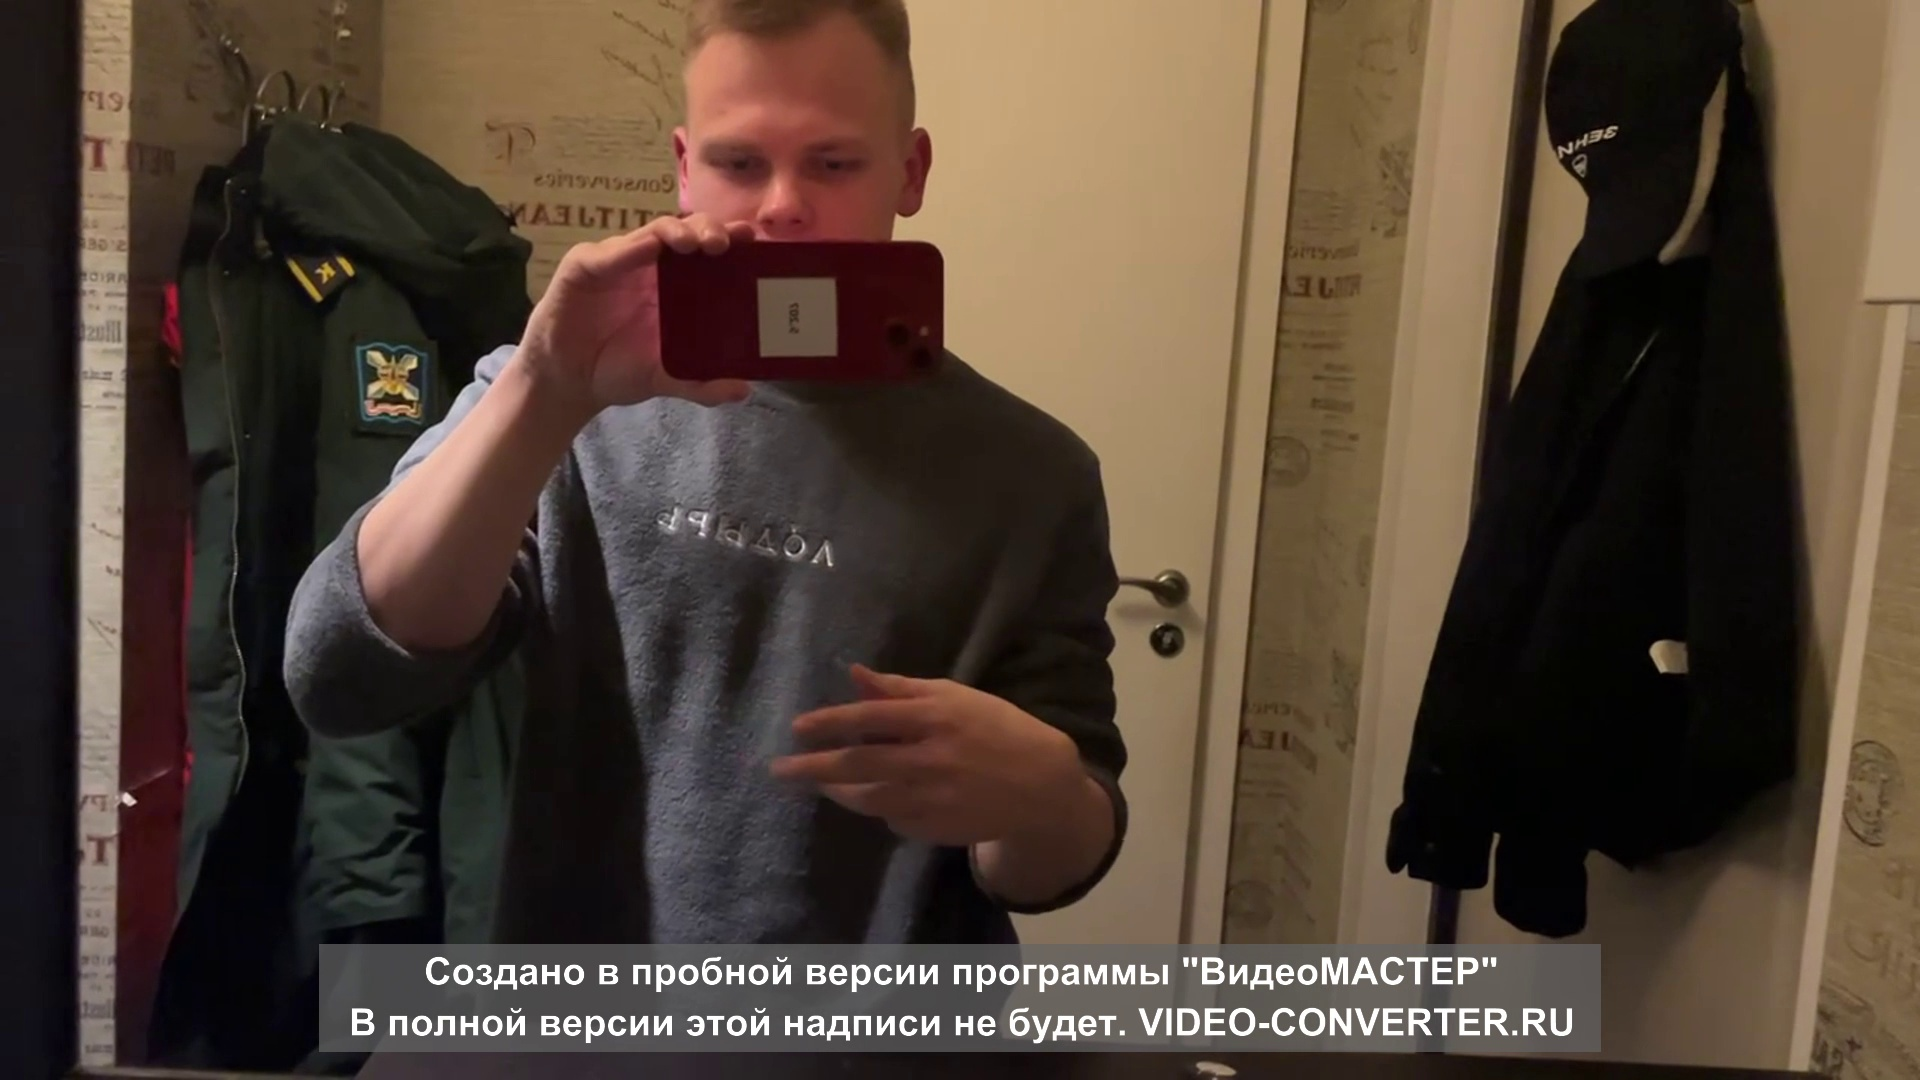Кисть: (765, 658, 1077, 845)
